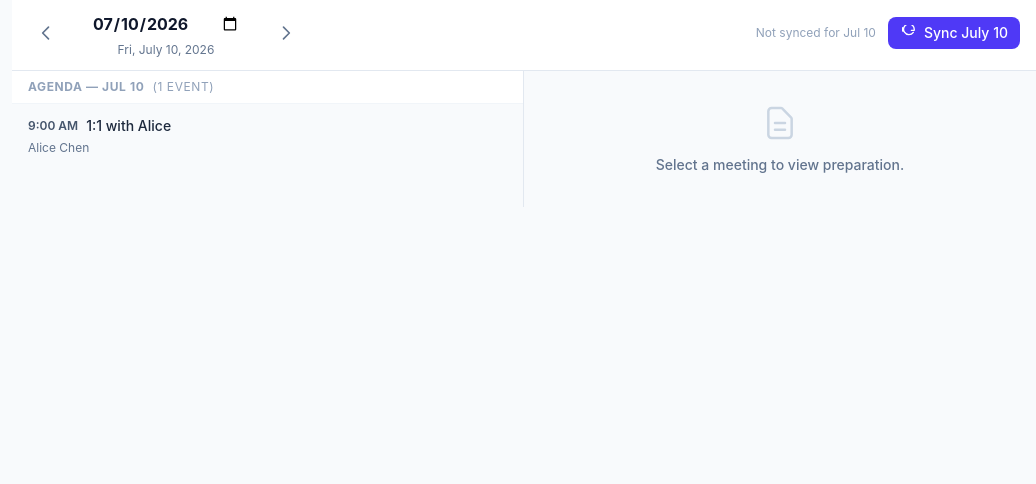
MeetingsView › meeting selection opens prep panel
Click the heading "1:1 with Alice".
click(129, 126)  # box [86,116,171,136]
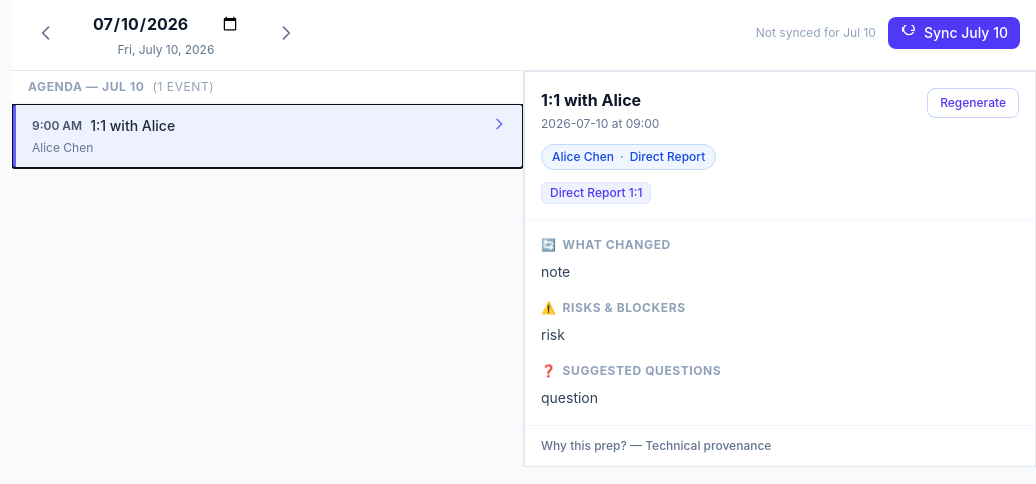
Result: the text "Direct Report 1:1" is shown at [541,182,651,204]
